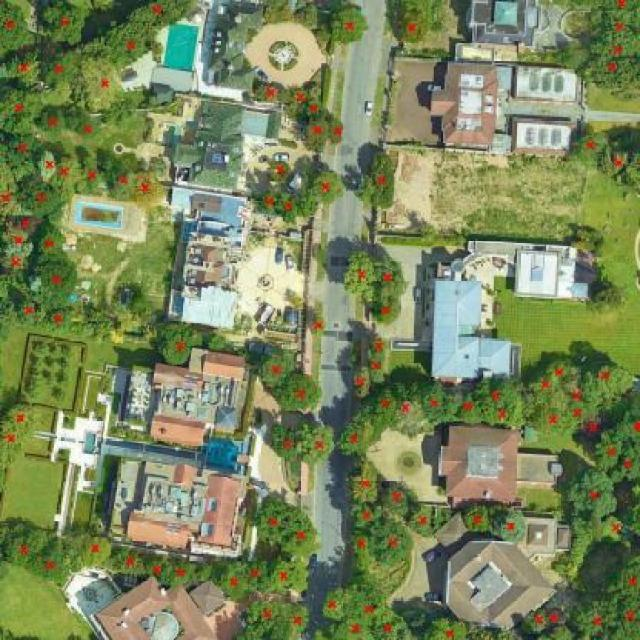tree: (78, 55, 127, 116), (565, 467, 621, 519), (33, 0, 92, 49), (357, 148, 398, 211), (2, 521, 49, 575), (24, 532, 71, 586), (369, 518, 417, 569), (252, 491, 299, 543), (580, 54, 640, 94), (157, 320, 205, 368), (127, 0, 198, 32), (275, 370, 324, 416), (0, 89, 45, 138), (17, 176, 66, 221), (278, 510, 322, 559), (263, 554, 311, 597), (597, 142, 640, 190), (296, 418, 338, 467), (235, 600, 286, 640), (35, 259, 80, 303), (326, 1, 371, 45), (346, 581, 392, 624), (342, 248, 378, 302), (0, 0, 35, 55), (372, 253, 411, 301), (587, 29, 640, 64), (110, 19, 152, 63), (581, 359, 637, 392), (476, 372, 527, 408), (488, 503, 530, 546), (345, 459, 384, 505), (0, 401, 43, 442), (0, 53, 45, 92), (129, 170, 169, 213), (80, 306, 123, 345), (267, 421, 305, 465), (571, 600, 615, 638), (365, 388, 399, 434), (606, 554, 640, 600), (41, 49, 81, 88), (394, 7, 434, 45), (416, 612, 470, 640), (592, 429, 626, 473), (368, 607, 413, 640), (308, 168, 347, 206), (258, 352, 298, 389), (586, 279, 626, 316), (216, 563, 250, 606), (48, 154, 84, 194), (530, 406, 572, 440), (571, 130, 615, 162), (110, 544, 148, 581), (78, 533, 115, 570), (278, 598, 310, 640), (408, 503, 445, 539), (589, 9, 640, 35), (612, 394, 639, 443), (78, 152, 107, 197), (421, 379, 450, 424), (484, 403, 528, 432), (336, 424, 372, 459), (318, 585, 354, 620), (379, 480, 412, 518), (612, 597, 640, 640), (41, 302, 76, 336), (369, 295, 405, 328), (526, 365, 562, 398), (324, 615, 371, 640), (0, 426, 26, 471), (303, 116, 332, 156), (518, 604, 551, 639), (612, 442, 639, 484), (161, 557, 197, 588), (5, 131, 38, 164), (105, 169, 137, 203), (461, 501, 493, 534), (344, 504, 382, 531), (0, 223, 34, 252), (36, 230, 70, 259), (276, 191, 305, 225), (586, 0, 640, 18), (37, 108, 68, 139), (291, 0, 322, 31), (128, 291, 157, 324), (397, 398, 426, 431), (455, 392, 483, 426), (257, 185, 283, 221), (144, 554, 173, 586), (261, 0, 294, 28), (0, 248, 31, 277), (266, 157, 297, 186), (244, 556, 270, 590), (563, 380, 594, 408), (15, 296, 41, 329), (13, 212, 44, 239), (564, 397, 590, 429), (349, 366, 373, 400), (579, 412, 608, 440), (346, 531, 377, 557), (36, 148, 59, 183), (547, 355, 578, 379), (0, 181, 20, 217), (366, 357, 391, 385), (602, 513, 626, 542), (326, 116, 348, 147), (365, 333, 389, 361), (254, 81, 281, 105), (288, 84, 312, 110), (349, 552, 373, 578), (545, 605, 571, 629), (77, 116, 101, 141), (205, 330, 229, 355), (302, 97, 328, 120), (106, 111, 131, 132), (194, 561, 215, 584), (307, 315, 328, 338), (592, 237, 613, 260), (549, 623, 577, 640), (314, 244, 332, 270), (89, 0, 116, 15), (23, 380, 43, 400), (29, 336, 49, 356), (154, 159, 172, 181), (54, 369, 74, 388), (38, 366, 57, 385), (57, 340, 75, 360), (42, 352, 59, 371), (148, 92, 166, 109), (54, 388, 71, 405), (26, 350, 42, 367), (47, 337, 62, 355), (26, 364, 43, 379)
